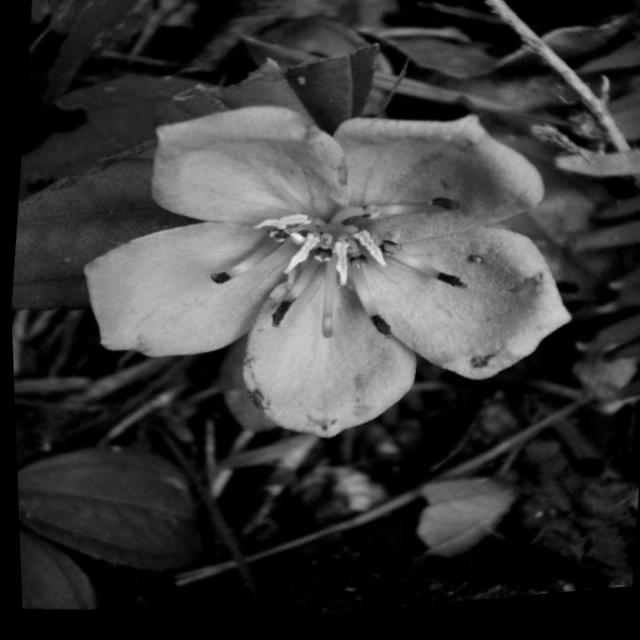Flower: (62, 63, 591, 498)
